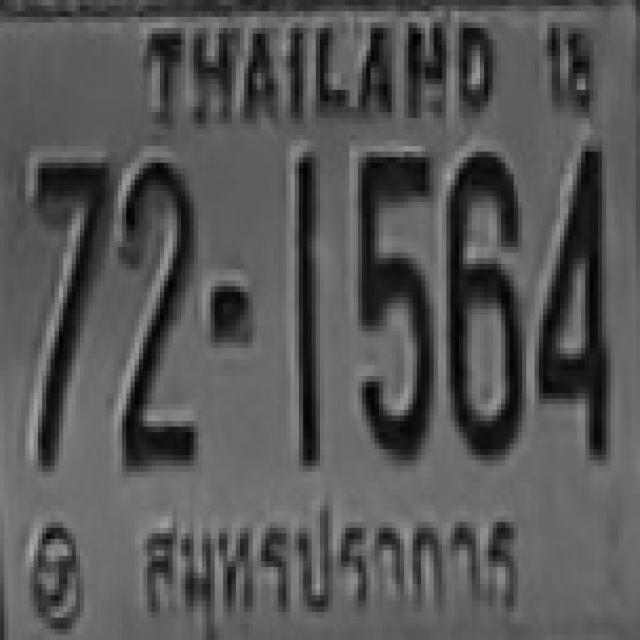1: (293, 154, 318, 407)
2: (118, 157, 198, 416), (118, 211, 198, 463)
4: (535, 140, 606, 455)
5: (352, 148, 432, 458), (354, 149, 429, 328)
6: (442, 146, 518, 449)
7: (32, 157, 112, 410)
SamutPrakan: (129, 476, 529, 632)
